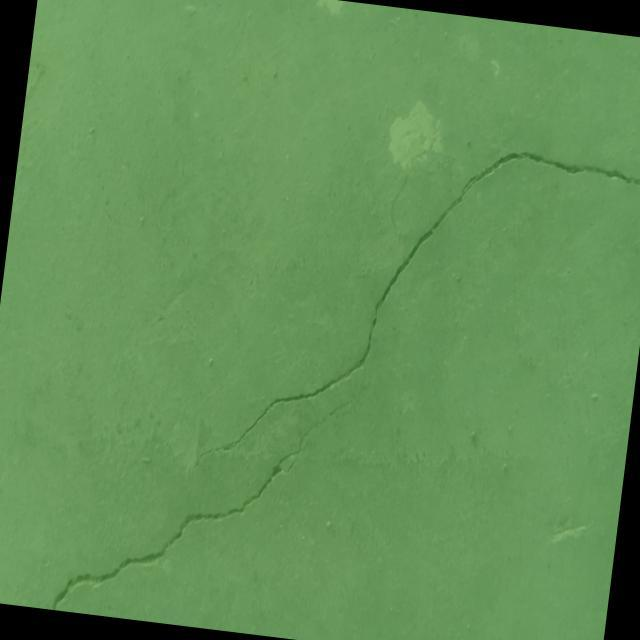crack: (185, 114, 640, 535), (50, 367, 349, 640)
